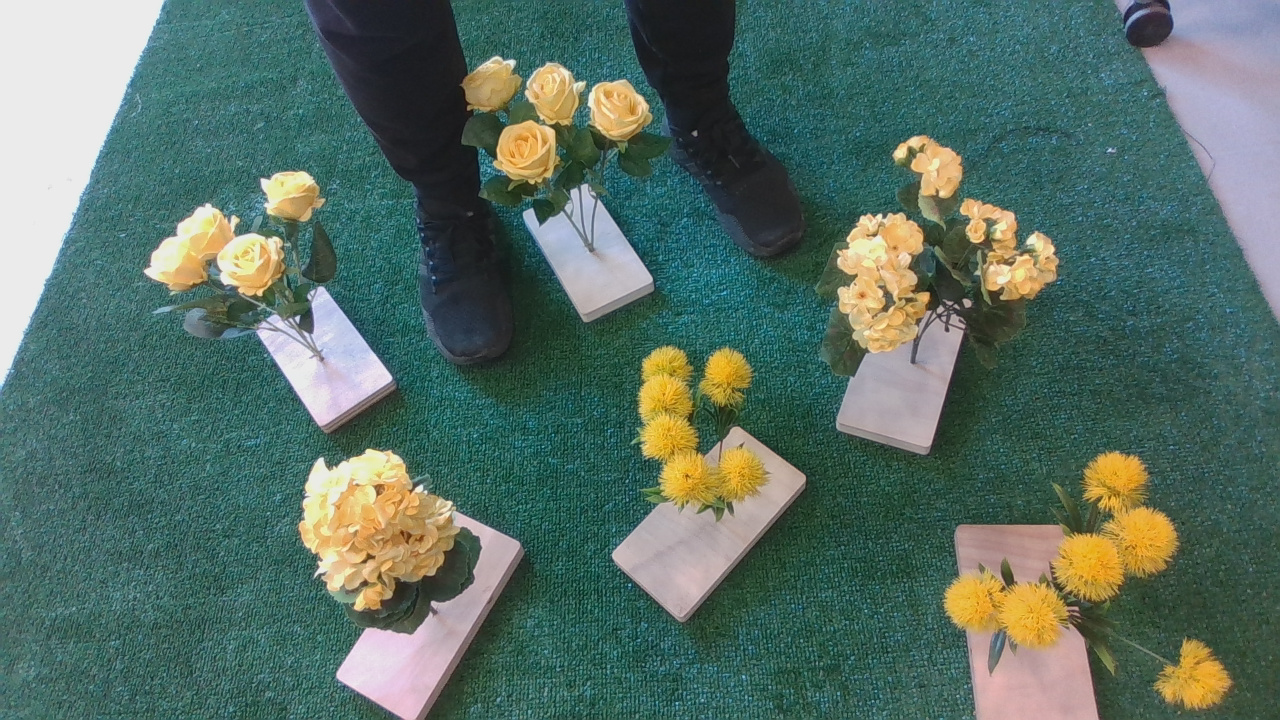dandelion: (943, 450, 1241, 719), (611, 347, 787, 523)
geranium: (819, 137, 1067, 380), (278, 447, 493, 642)
rose: (143, 172, 353, 353), (456, 54, 679, 222)
